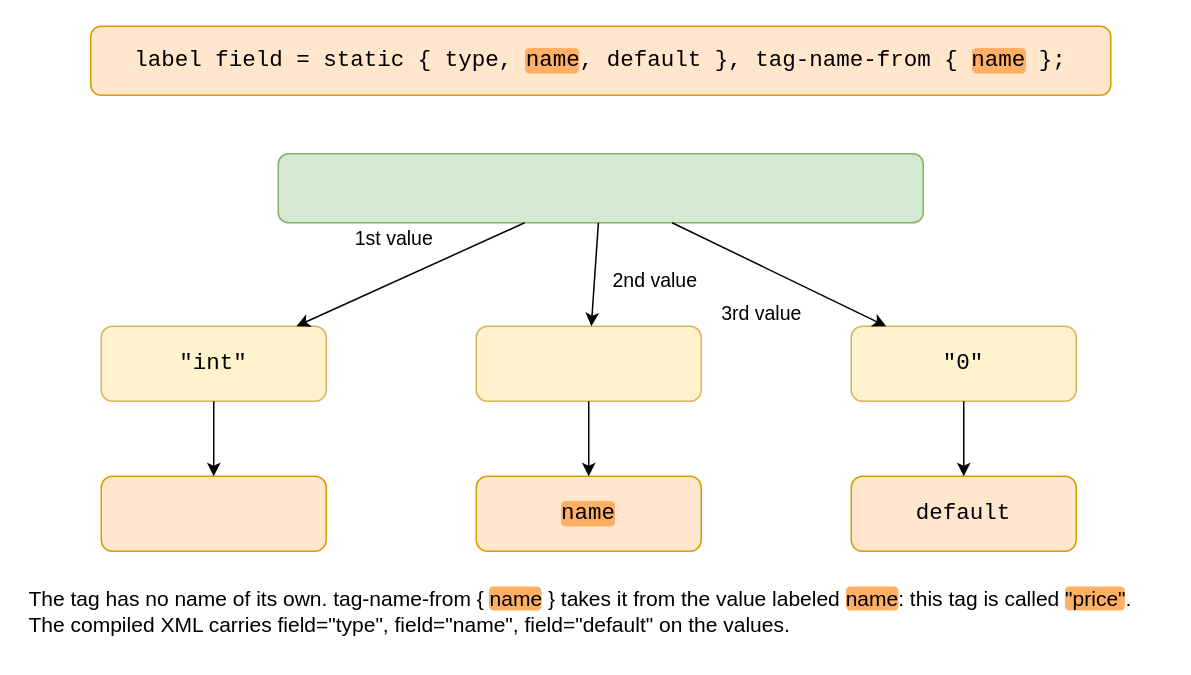
The diagram is 1191 pixels wide and 675 high, and some of its shapes have lost their labels. Here are the shapes that lost their labels. From the top down, the box of each, then its label:
(277, 152, 923, 223): field important { "int", "price" , "0" };
(475, 325, 701, 401): "price"
(100, 475, 326, 551): type
